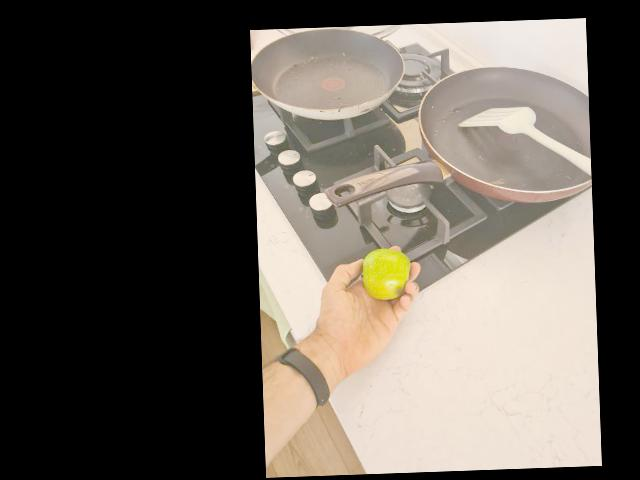apple: (357, 247, 418, 309)
